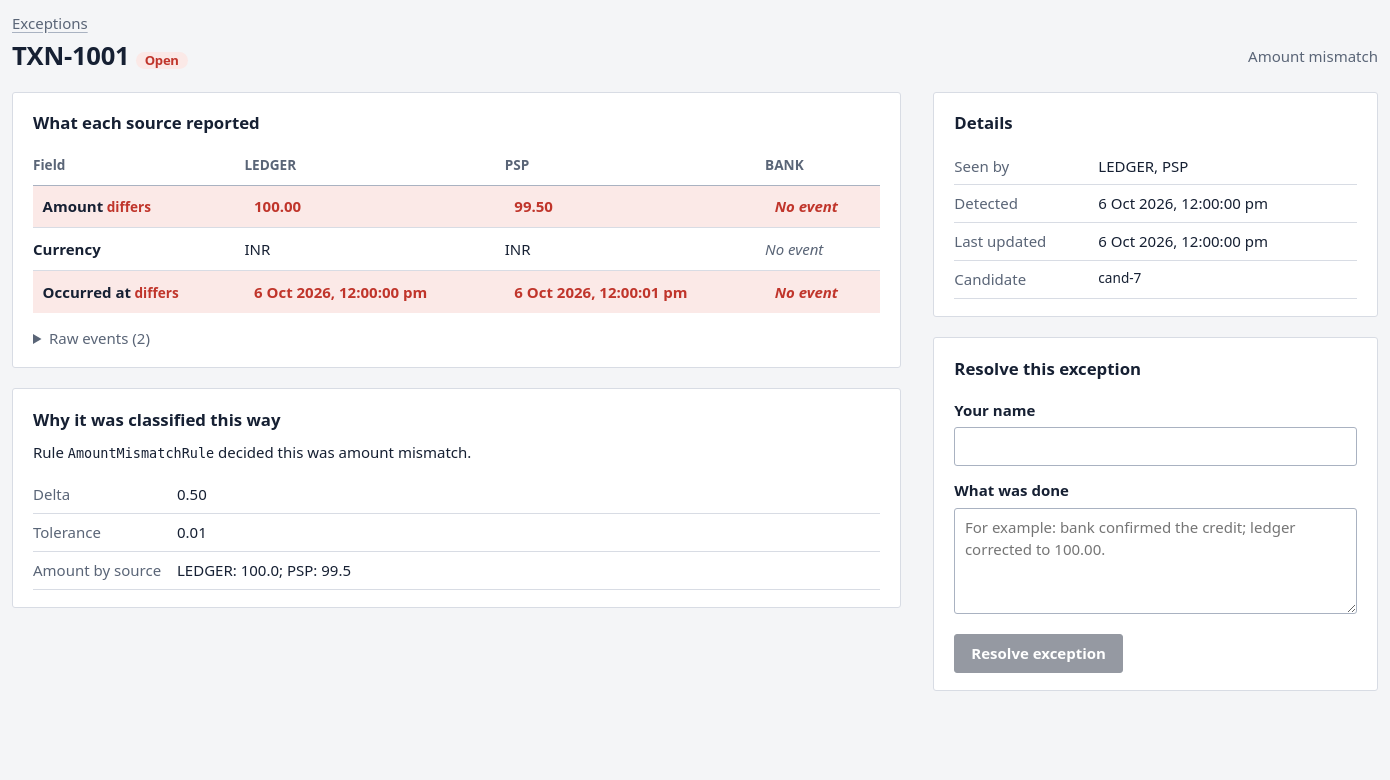
Scenario: ExceptionDetailPage › keeps the resolve button off until a name and a note are given, then resolves and shows the audit trail
Expected: the button "Resolve exception" is disabled, [954, 634, 1123, 673]
Type "asha.k" into the field labelled "Your name".
click(1156, 446); type("asha.k")  # box [954, 427, 1357, 466]
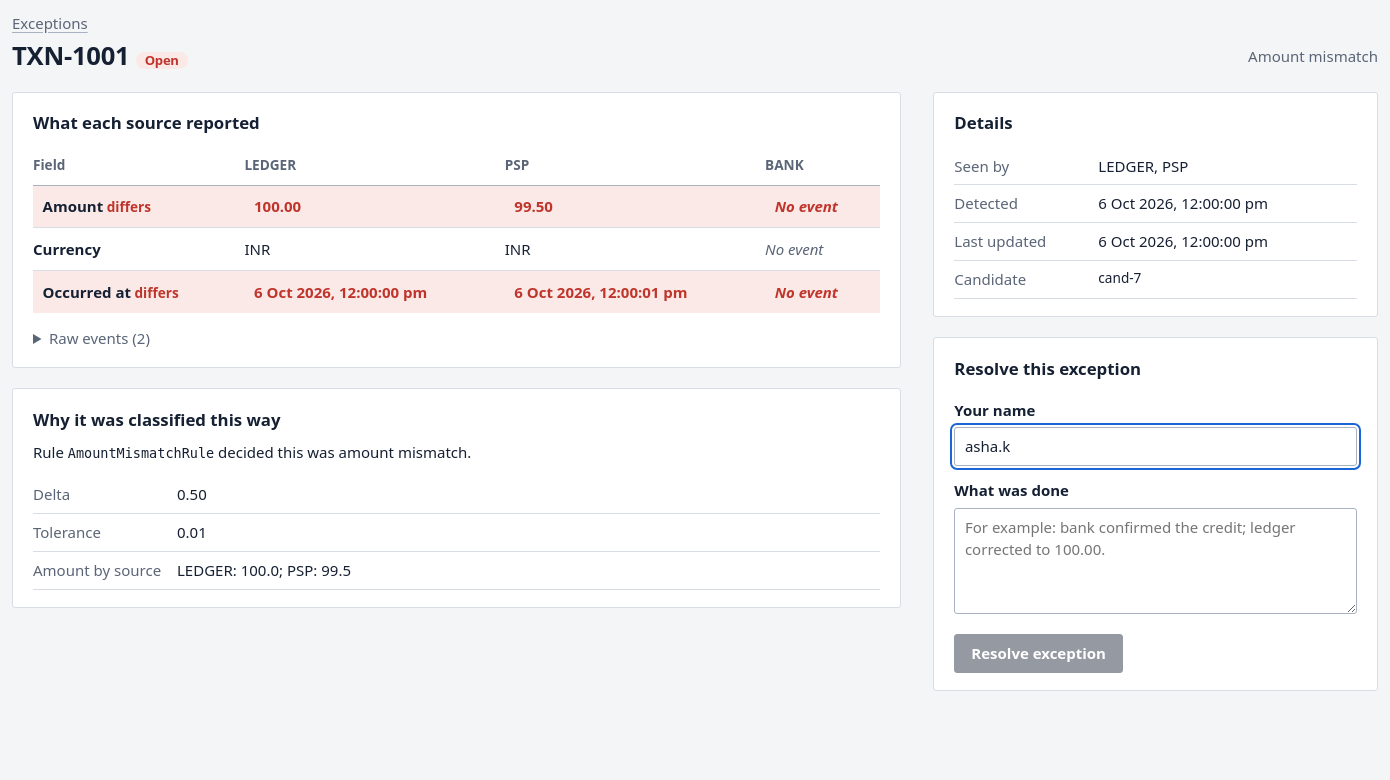
Expected: the button "Resolve exception" is disabled, [954, 634, 1123, 673]
Type "  Bank confirmed  " into the text box labelled "What was done".
click(1156, 561); type("  Bank confirmed  ")  # box [954, 508, 1357, 614]
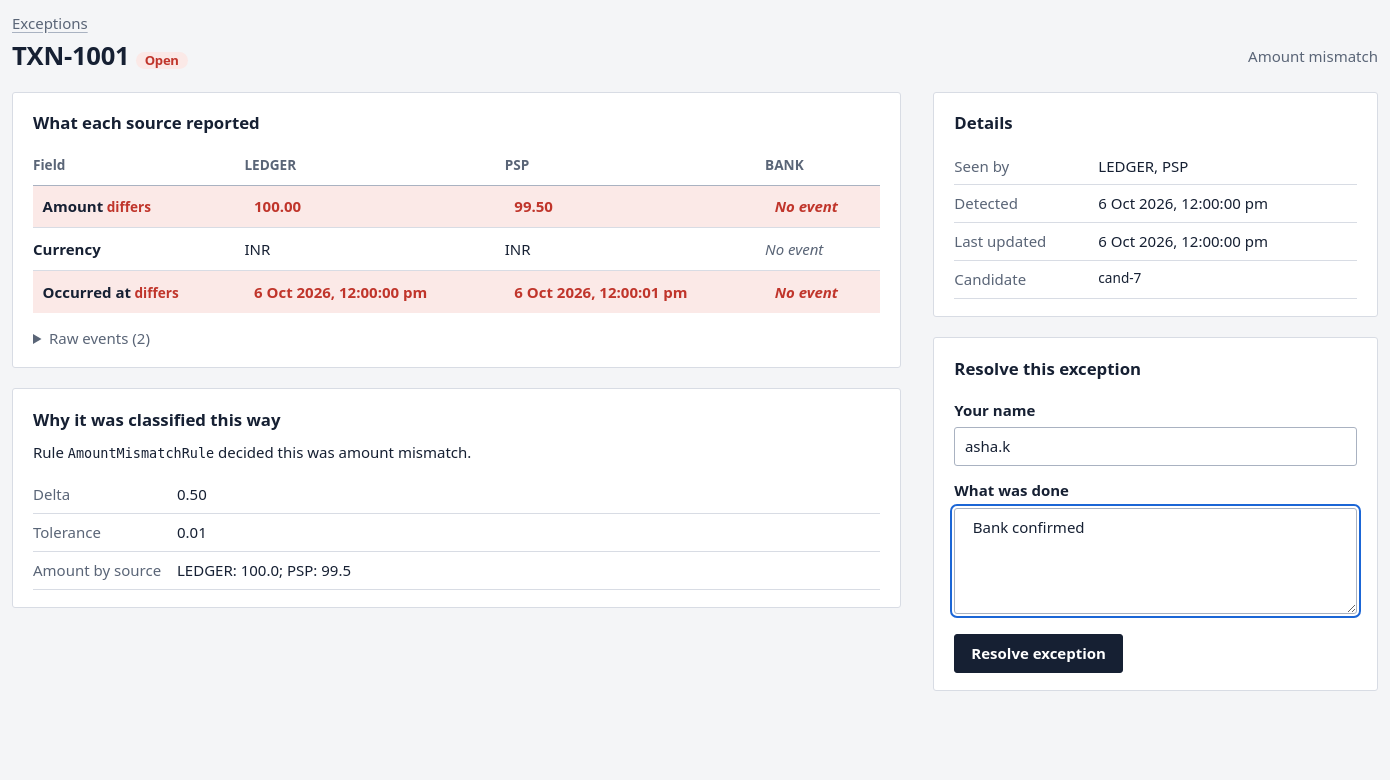
Expected: the button "Resolve exception" is enabled
Click the button "Resolve exception".
click(1039, 653)  # box [954, 634, 1123, 673]
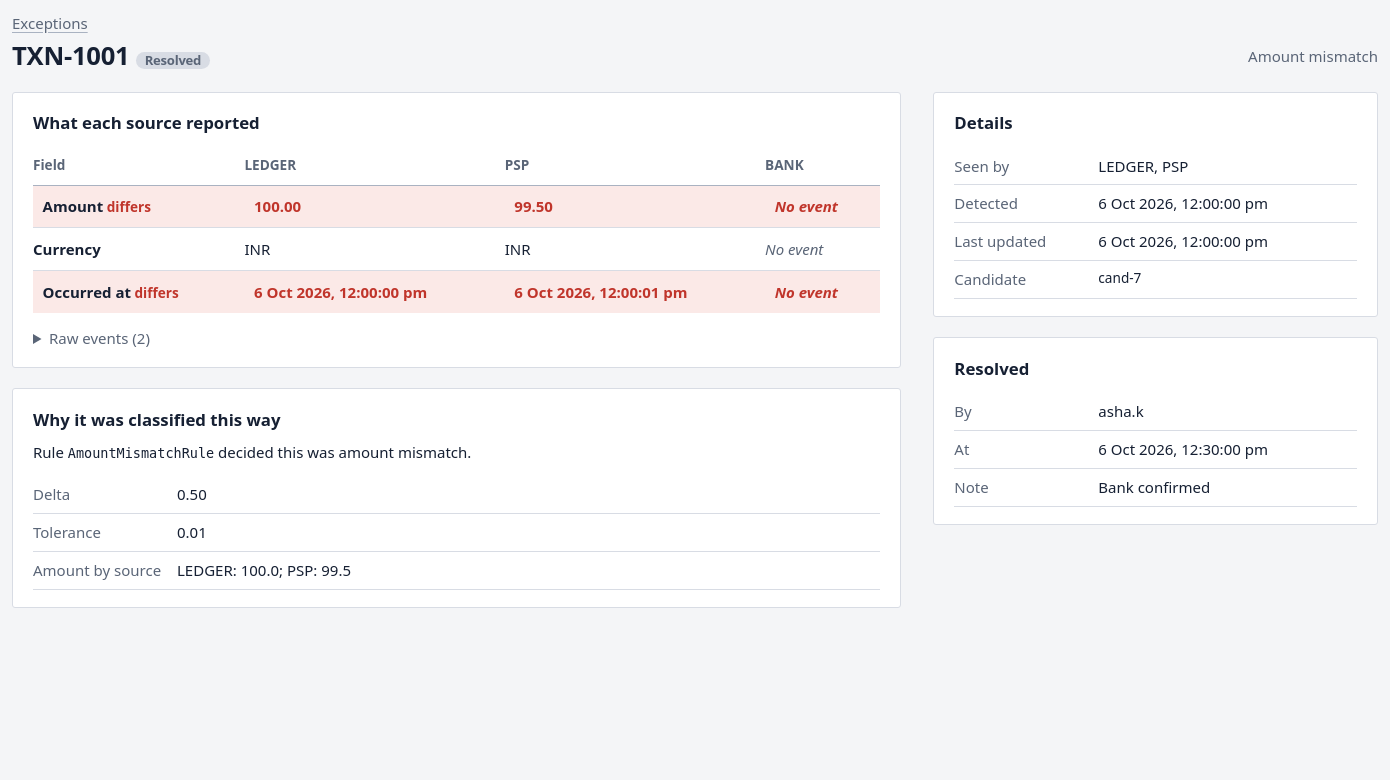
Expected: the heading "Resolved" is shown, [954, 357, 1029, 380]
Expected: the text "Bank confirmed" is shown, [1098, 477, 1210, 497]
Expected: the button "Resolve exception" is gone
